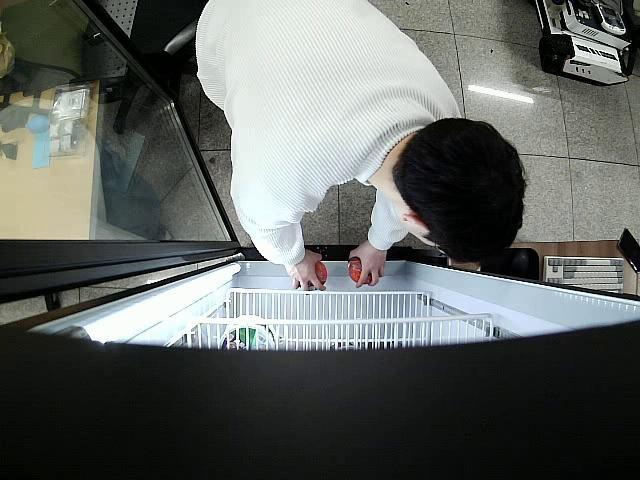02_shinRamen_S: (297, 262, 326, 291), (348, 258, 372, 285)
